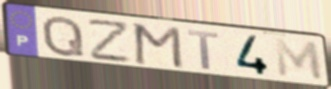4: (234, 33, 272, 78)
M: (133, 22, 185, 71), (273, 37, 326, 84)
Q: (41, 14, 87, 58)
T: (185, 28, 222, 72)
Z: (86, 19, 133, 64)
